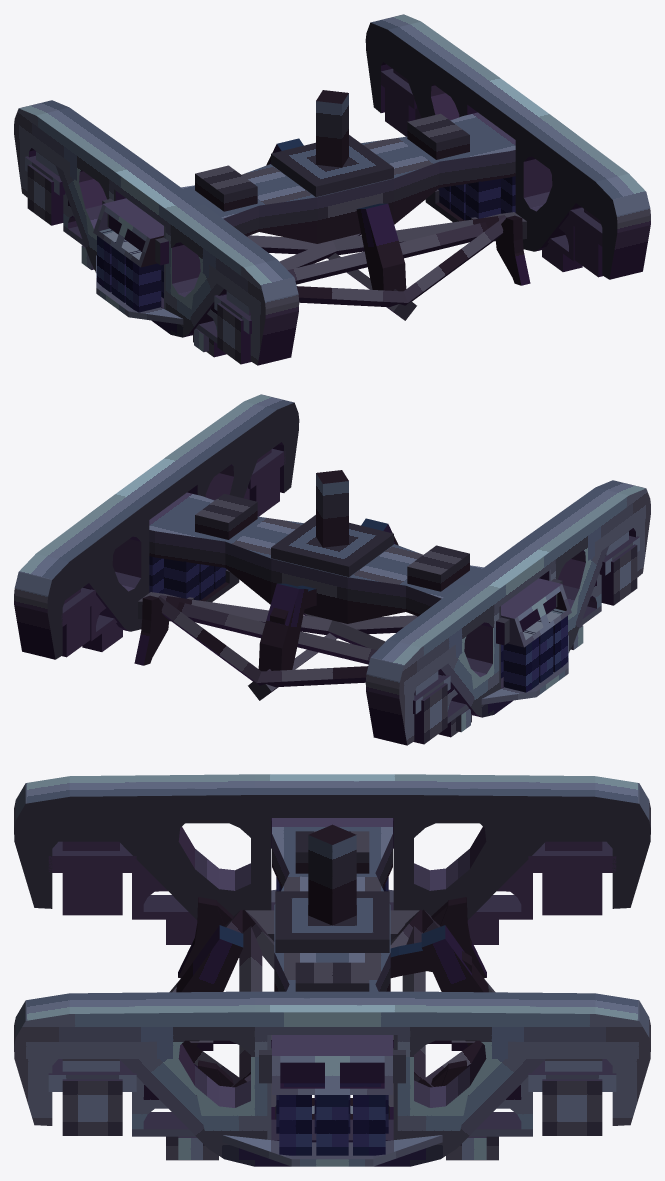
Rendered from zk6_frame.obj.
The picture shows the model from 3 angles, top to bottom: view 1: azimuth 30°, elevation 25°; view 2: azimuth 150°, elevation 25°; view 3: azimuth 270°, elevation 25°; orthographic projection. The views are drawn at different scales.
Visible parts, largest first — view 1: cube; view 2: cube; view 3: cube.
Boxes of the visible parts, <box> form: cube: <box>14,14,650,365</box>; cube: <box>14,394,650,745</box>; cube: <box>14,774,650,1166</box>.
Size of the model in its own units: 2.46 by 0.9531 by 2.44.
